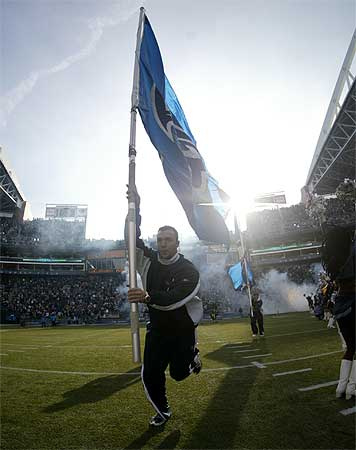person: (124, 186, 204, 426)
